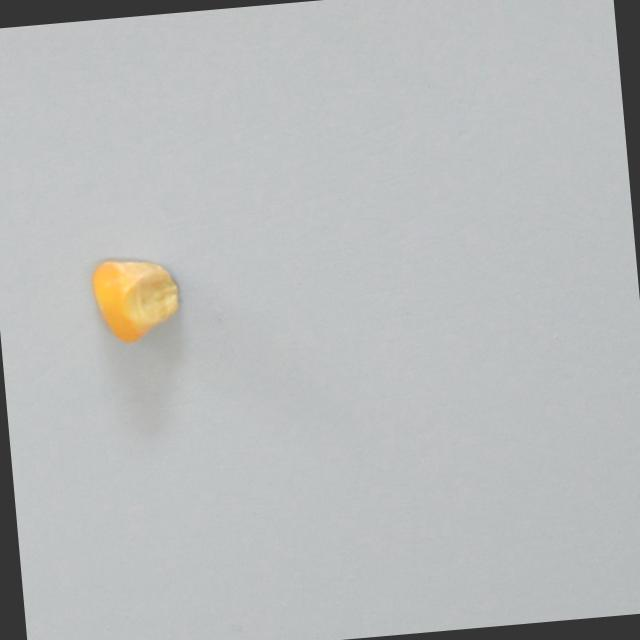dañado: (87, 252, 185, 349)
